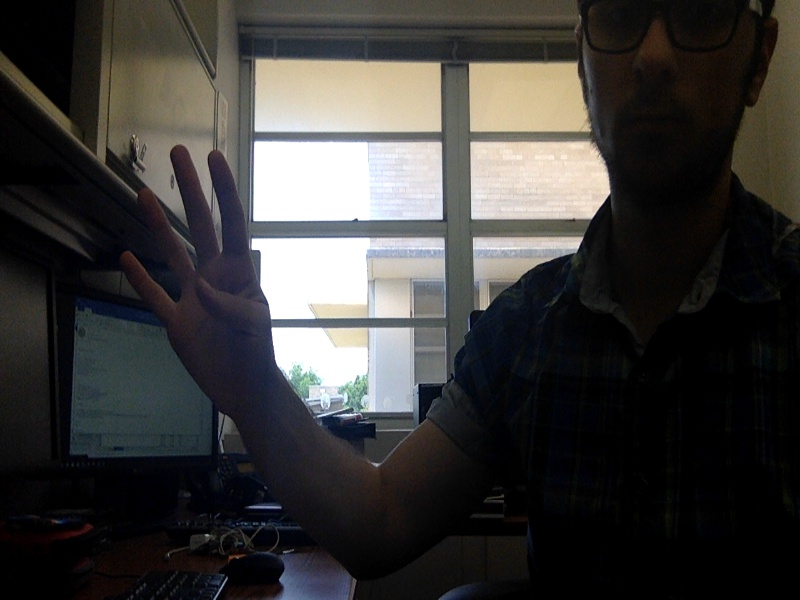4-hand: (120, 144, 284, 403)
